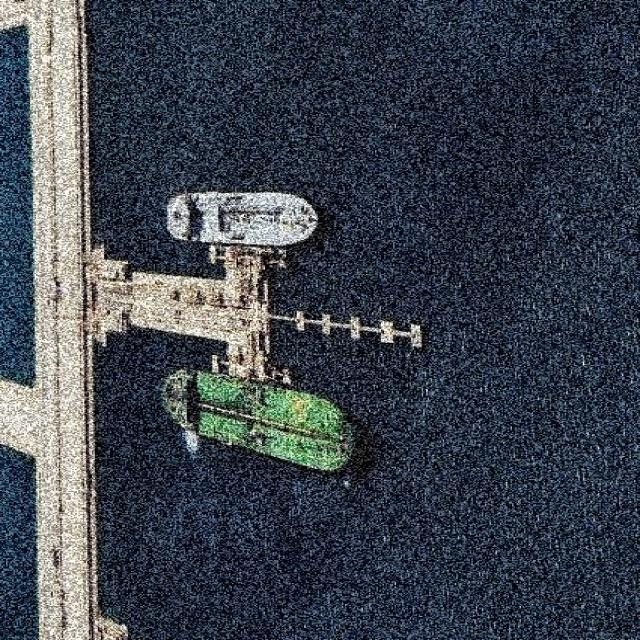ship2: (162, 372, 359, 476), (167, 193, 320, 249)
